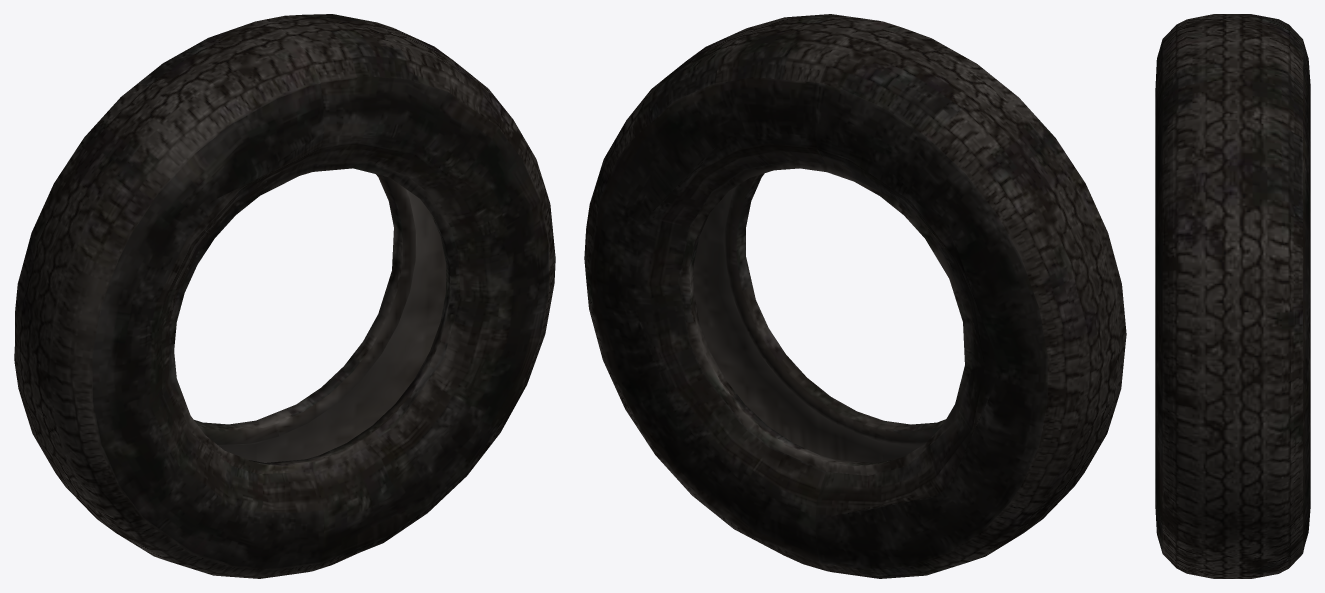
The model's file is old_tyre.glb.
The picture shows the model from 3 angles, left to right: view 1: azimuth 30°, elevation 25°; view 2: azimuth 150°, elevation 25°; view 3: azimuth 270°, elevation 25°; orthographic projection. The views are drawn at different scales.
Visible parts, largest first — view 1: old_tyre; view 2: old_tyre; view 3: old_tyre.
Part boxes in pixels (bbox=[...]): old_tyre: bbox=[14, 14, 555, 578]; old_tyre: bbox=[584, 14, 1126, 578]; old_tyre: bbox=[1155, 14, 1310, 578].
Size of the model in its own units: 0.6 by 0.6 by 0.165.
Materials: 1 (1 with a texture image).
